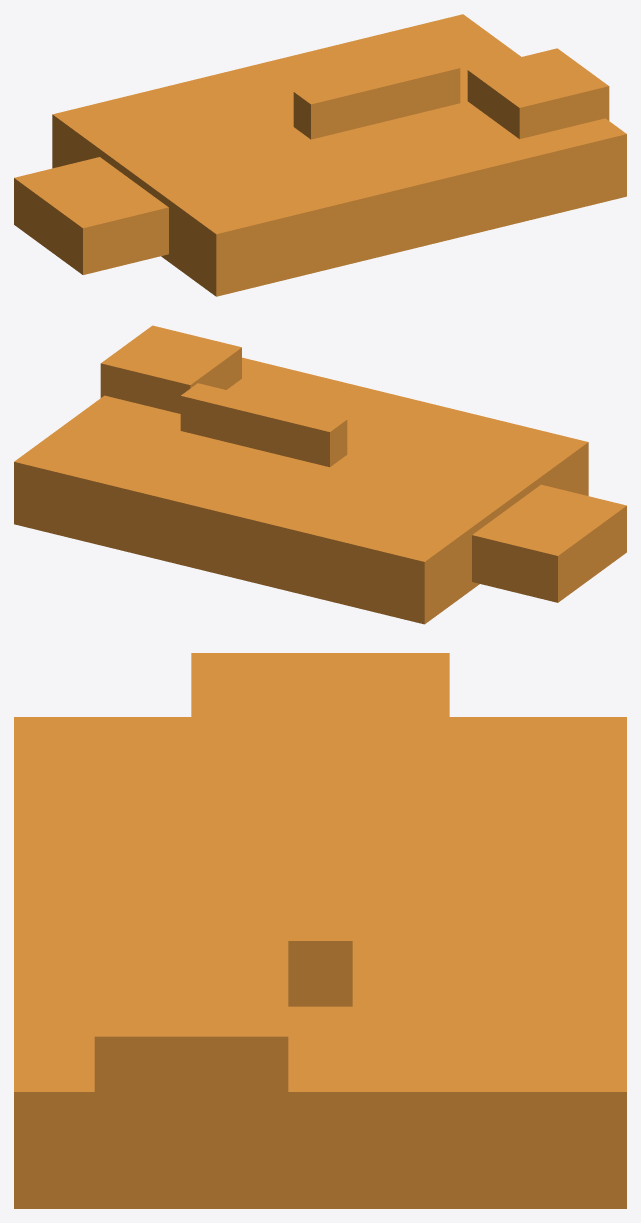
Rendered from fish_tropic_ray.glb.
3 renders of one model, top to bottom at view 1: azimuth 30°, elevation 25°; view 2: azimuth 150°, elevation 25°; view 3: azimuth 270°, elevation 25°, orthographic. The views are drawn at different scales.
Visible parts, largest first — view 1: species.tropic_ray; view 2: species.tropic_ray; view 3: species.tropic_ray.
Part boxes in pixels (x1,y1,x2,y2): species.tropic_ray: [14, 14, 626, 296]; species.tropic_ray: [14, 325, 626, 624]; species.tropic_ray: [14, 653, 626, 1208].
Size of the model in its own units: 0.3 by 0.056 by 0.1701.
